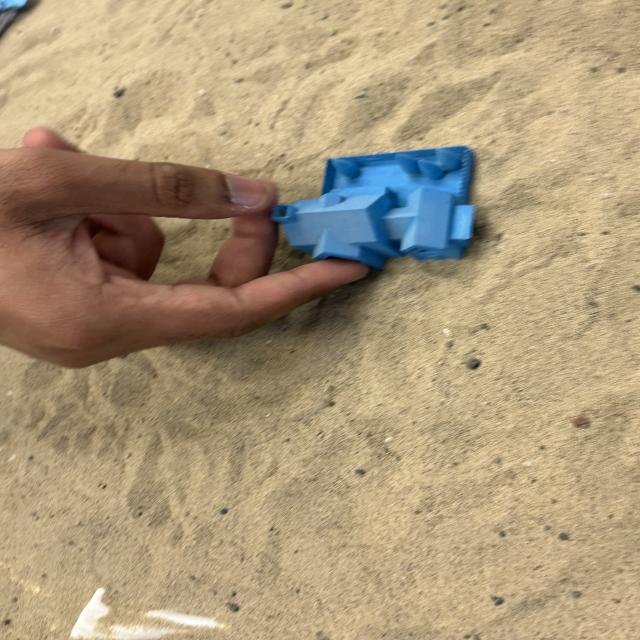house: (270, 144, 476, 271)
